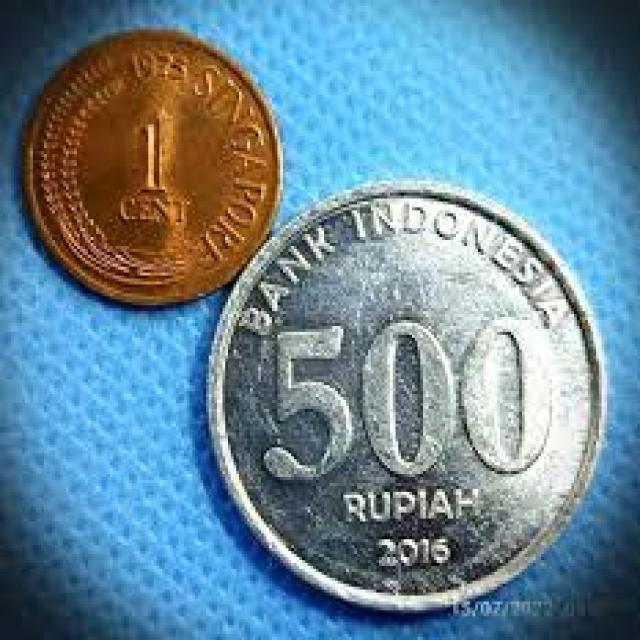500-silver: (206, 179, 608, 605)
